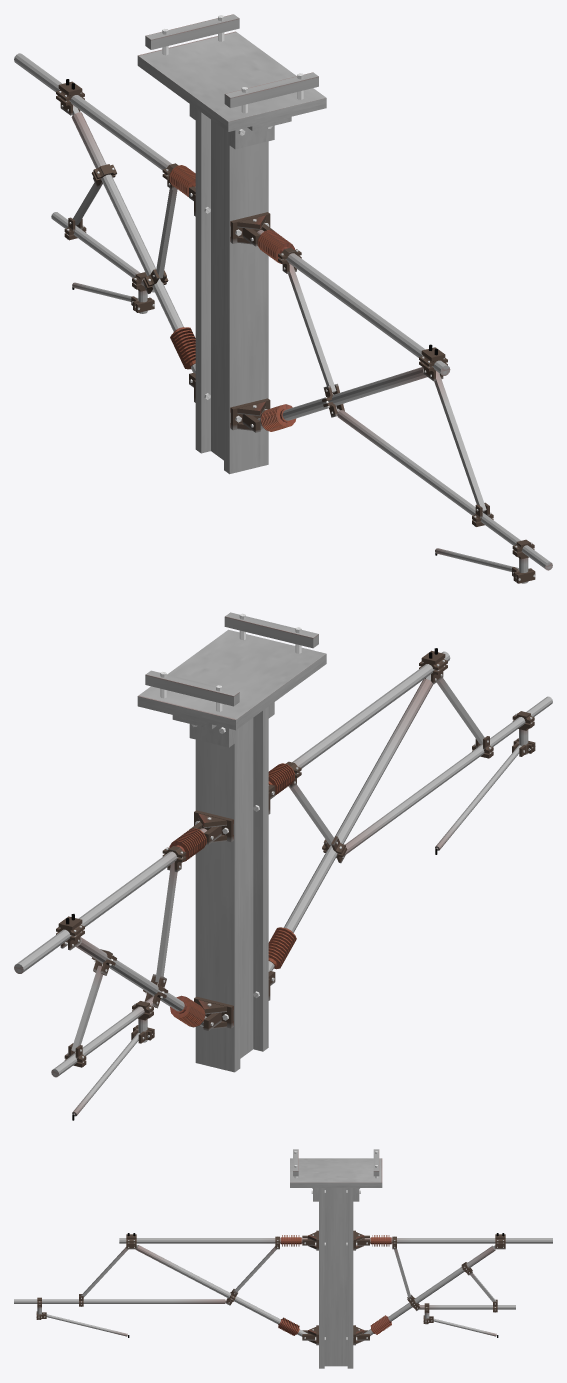
The model's file is catenary_both_top.obj.
3 views of the same model, one above another, from view 1: azimuth 30°, elevation 25°; view 2: azimuth 150°, elevation 25°; view 3: azimuth 270°, elevation 25° (orthographic). The views are drawn at different scales.
Visible parts, largest first — view 1: cuboid, cylinder; view 2: cuboid, cylinder; view 3: cuboid, cylinder.
Boxes of the visible parts, x1=… form: cuboid: x1=56, y1=14, x2=535, y2=583; cylinder: x1=14, y1=15, x2=552, y2=583; cuboid: x1=56, y1=612, x2=535, y2=1115; cylinder: x1=14, y1=613, x2=552, y2=1120; cuboid: x1=36, y1=1149, x2=505, y2=1368; cylinder: x1=14, y1=1151, x2=552, y2=1340.
Size of the model in its own units: 0.625 by 2.46 by 5.84.
Materials: 1 (1 with a texture image).
